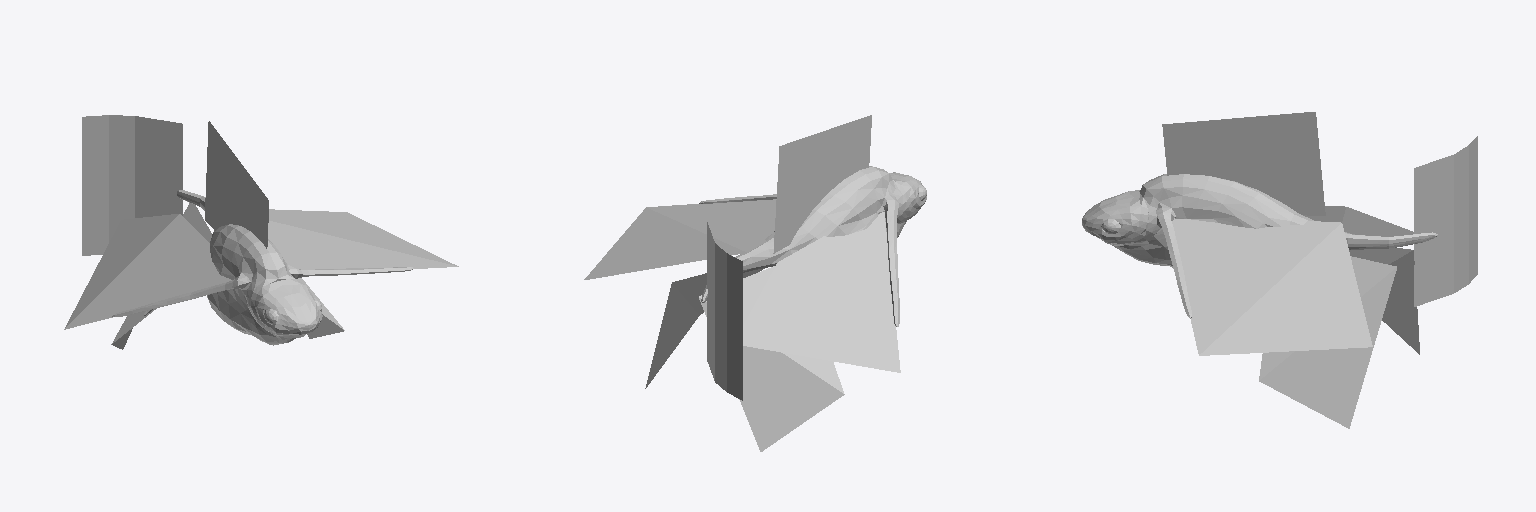
Rendered from fish_000023.obj.
3 views of the same model, side by side, from view 1: azimuth 30°, elevation 25°; view 2: azimuth 150°, elevation 25°; view 3: azimuth 270°, elevation 25° (orthographic).
Parts seen in each view (by area): view 1: flyingFish_low_StingrayPBS1_0; view 2: flyingFish_low_StingrayPBS1_0; view 3: flyingFish_low_StingrayPBS1_0.
Boxes of the visible parts, <box> form: flyingFish_low_StingrayPBS1_0: <box>64,115,458,349</box>; flyingFish_low_StingrayPBS1_0: <box>584,115,926,451</box>; flyingFish_low_StingrayPBS1_0: <box>1082,112,1477,428</box>.
Bounding box in the file's own units: 17.4 × 13.32 × 18.4.